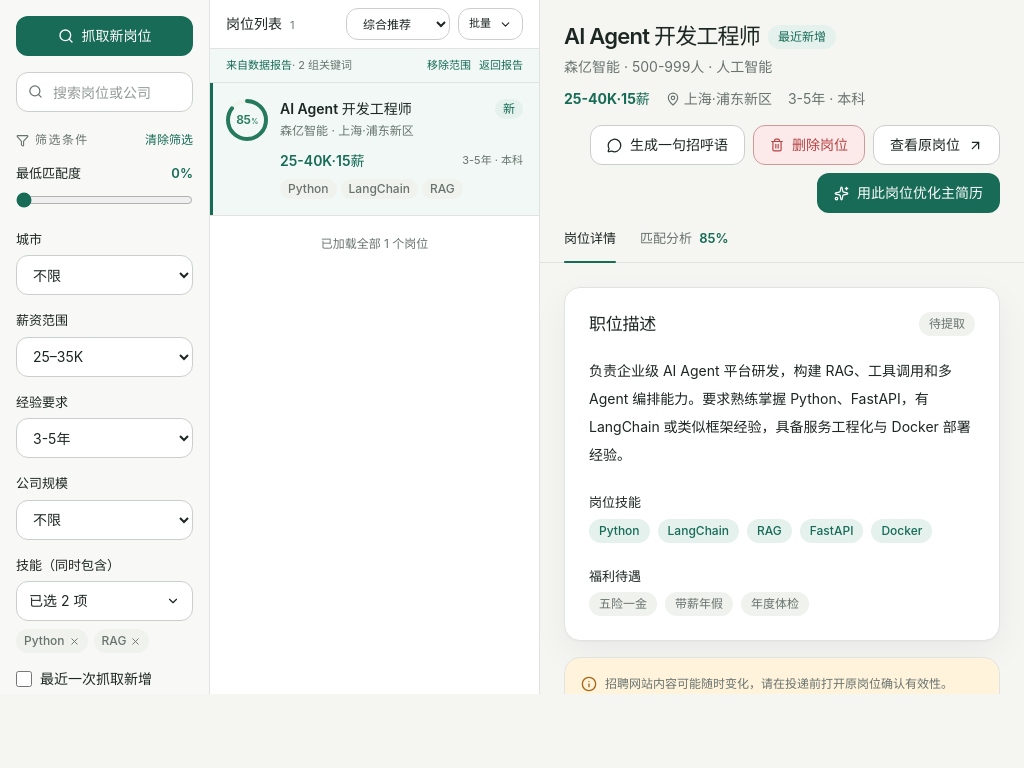
Test: job scraping controls › restores report drilldown filters while dropping the obsolete window state
The width and height of the screenshot is (1024, 768).
Expected: the text "来自数据报告" is shown, [226,58,292,72]
Expected: the dropdown labelled "经验要求" shows "3-5年", [16,418,193,458]
Click the button with aria-label "移除技能 Python" at (52, 641), box [16,629,88,653]
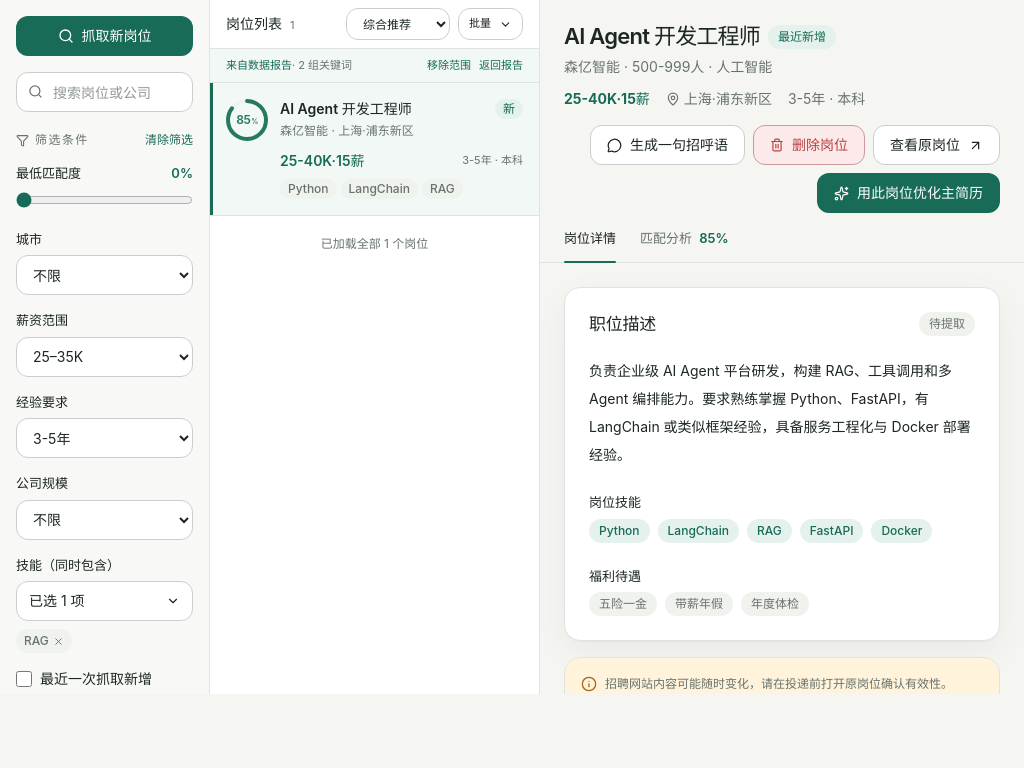
Click the button "清除筛选" at (169, 140), box [145,132,193,148]
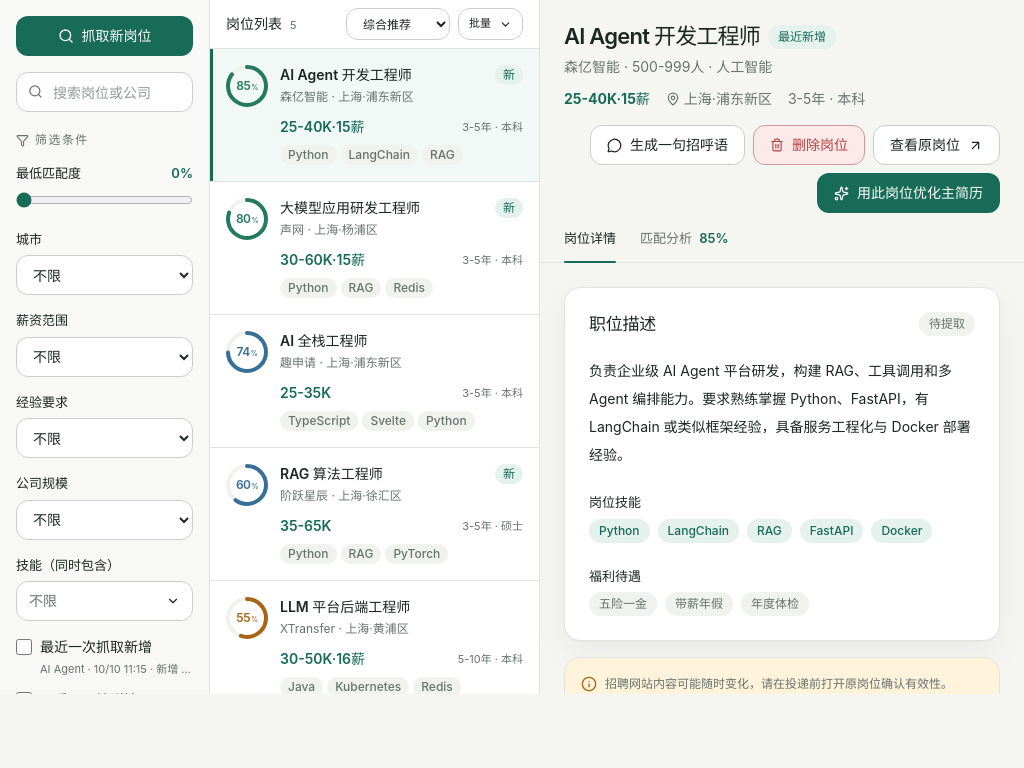
Now the text "来自数据报告" is gone
